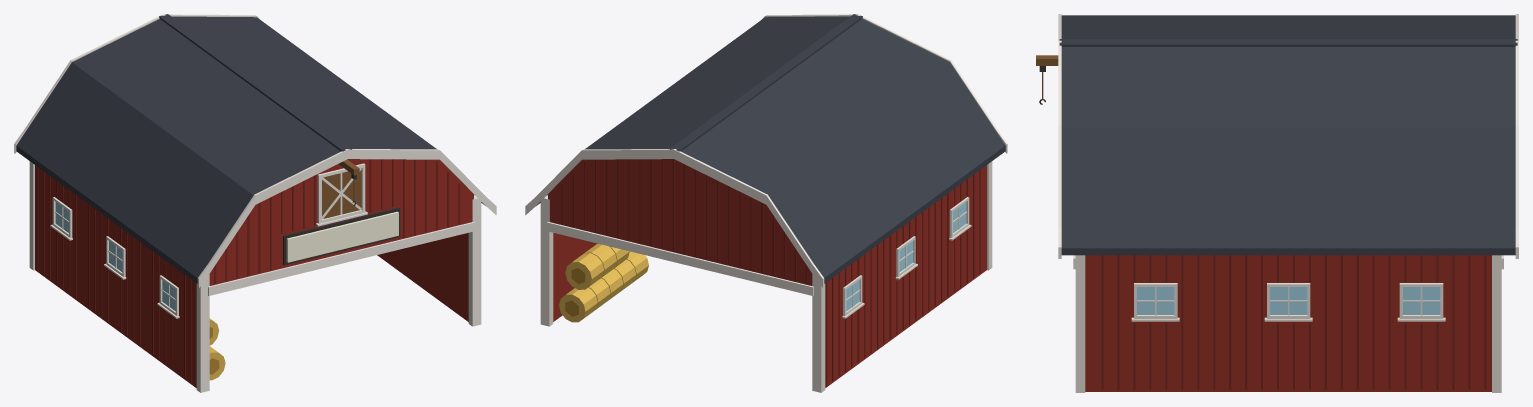
File: haybarn.glb
The picture shows the model from 3 angles, left to right: view 1: azimuth 30°, elevation 25°; view 2: azimuth 150°, elevation 25°; view 3: azimuth 270°, elevation 25°; orthographic projection. The views are drawn at different scales.
Visible parts, largest first — view 1: roof_slab, wall_R, gable_F, battens_R, fascia, wall_L, corners, signboard, beam_F, gable_battens_F, ridge_cap, window_frames_R (+5 smaller); view 2: roof_slab, gable_B, wall_R, battens_R, fascia, gable_battens_B, bales, corners, beam_B, ridge_cap, wall_L, window_frames_R (+1 smaller); view 3: roof_slab, wall_L, battens_L, ridge_cap, window_glass_L, corners, window_frames_L, fascia.
Boxes of the visible parts, bbox=[...] form: roof_slab: bbox=[16, 16, 485, 283]; wall_R: bbox=[35, 165, 196, 387]; gable_F: bbox=[209, 159, 473, 285]; battens_R: bbox=[36, 166, 191, 382]; fascia: bbox=[14, 14, 496, 287]; wall_L: bbox=[377, 233, 468, 321]; corners: bbox=[29, 161, 481, 392]; signboard: bbox=[286, 211, 398, 262]; beam_F: bbox=[208, 222, 474, 295]; gable_battens_F: bbox=[214, 159, 460, 283]; ridge_cap: bbox=[159, 14, 351, 151]; window_frames_R: bbox=[50, 197, 179, 318]; roof_slab: bbox=[536, 16, 1005, 283]; gable_B: bbox=[548, 159, 812, 285]; wall_R: bbox=[825, 165, 986, 387]; battens_R: bbox=[825, 169, 980, 386]; fascia: bbox=[525, 14, 1007, 287]; gable_battens_B: bbox=[561, 159, 807, 283]; bales: bbox=[559, 243, 648, 322]; corners: bbox=[540, 161, 992, 392]; beam_B: bbox=[547, 222, 813, 295]; ridge_cap: bbox=[670, 14, 862, 151]; wall_L: bbox=[553, 233, 597, 321]; window_frames_R: bbox=[842, 197, 971, 318]; roof_slab: bbox=[1061, 15, 1515, 255]; wall_L: bbox=[1085, 255, 1491, 391]; battens_L: bbox=[1101, 255, 1486, 389]; ridge_cap: bbox=[1059, 39, 1517, 46]; window_glass_L: bbox=[1137, 287, 1440, 314]; corners: bbox=[1075, 255, 1501, 392]; window_frames_L: bbox=[1131, 283, 1445, 321]; fascia: bbox=[1058, 14, 1518, 258].
Size of the model in its own units: 16.1 by 11.06 by 18.16.
